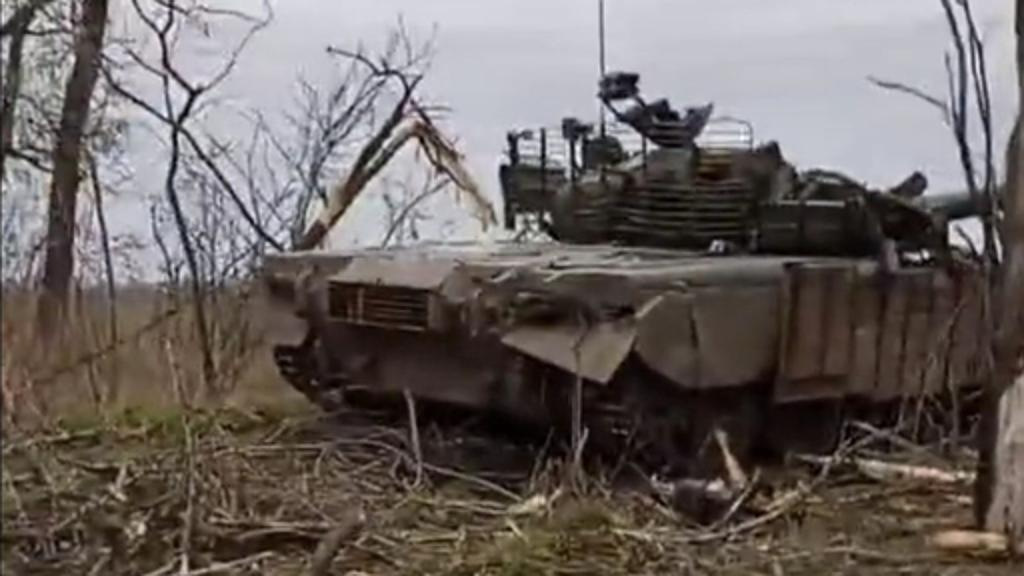TANK: (258, 64, 1022, 486)
